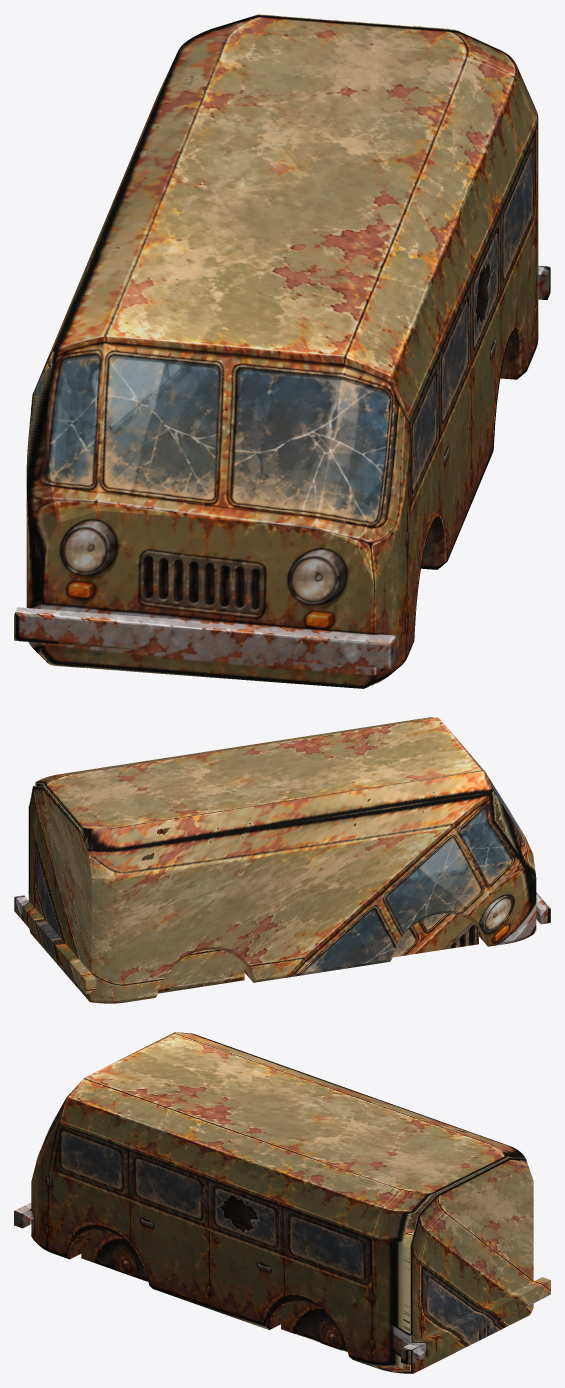
The model's file is uaz452.glb.
The picture shows the model from 3 angles, top to bottom: view 1: azimuth 30°, elevation 25°; view 2: azimuth 150°, elevation 25°; view 3: azimuth 270°, elevation 25°; orthographic projection. The views are drawn at different scales.
Parts seen in each view (by area): view 1: uaz452_game; view 2: uaz452_game; view 3: uaz452_game.
Part boxes in pixels (x1,y1,x2,y2): uaz452_game: (14, 14, 550, 688); uaz452_game: (14, 717, 550, 1003); uaz452_game: (14, 1032, 550, 1373).
Size of the model in its own units: 4.42 by 1.65 by 4.74.
1 material, 1 textured.
